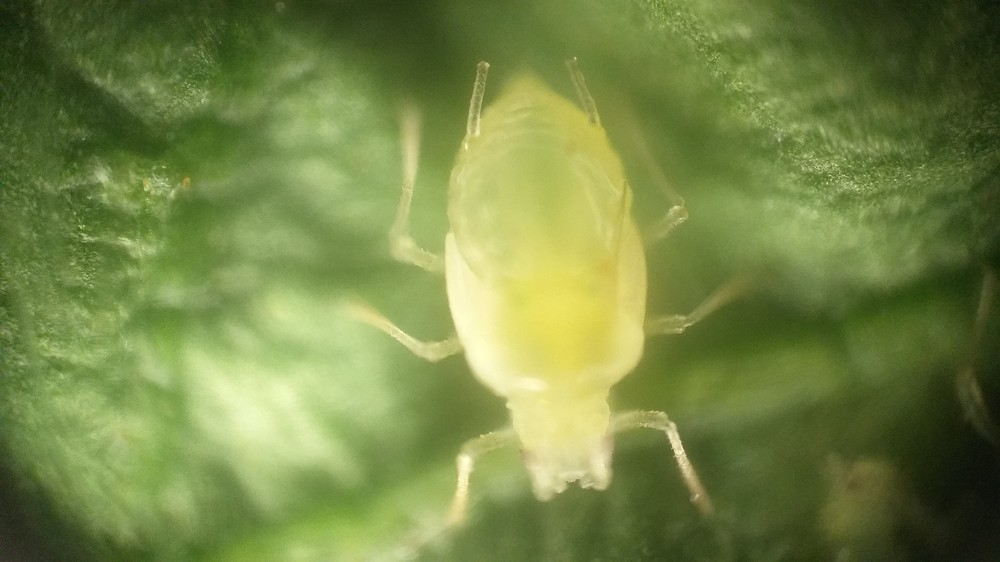Pulgon: (324, 50, 781, 552)
